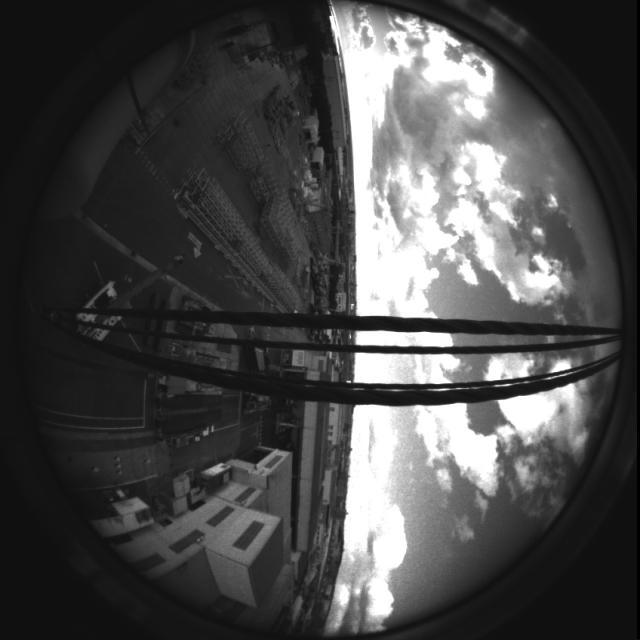rope: (14, 293, 635, 410)
sky: (321, 5, 623, 638)
